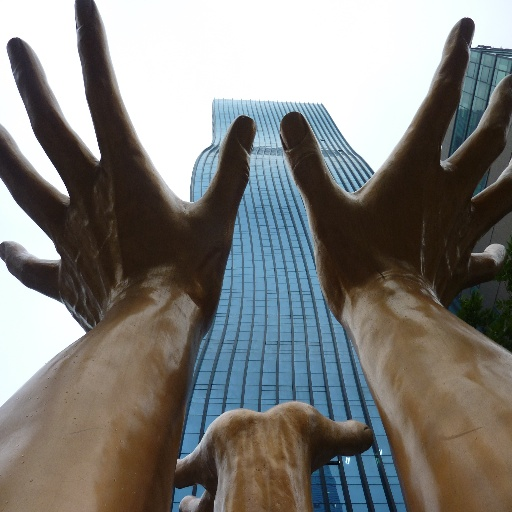hand: (12, 27, 296, 488), (278, 15, 511, 324), (173, 398, 374, 511)
